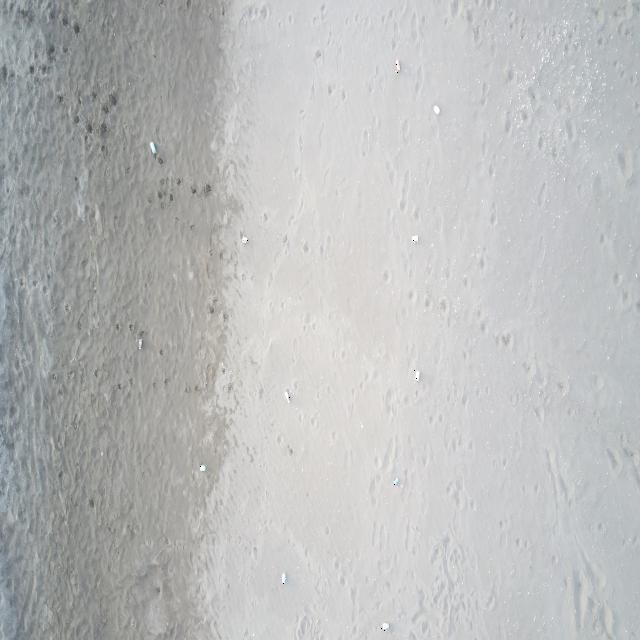tin-and-aluminum-cans: (284, 388, 291, 405), (394, 58, 401, 73), (432, 104, 441, 115), (414, 368, 420, 384), (410, 234, 419, 244), (150, 140, 156, 155), (138, 337, 144, 351), (381, 623, 391, 631), (392, 477, 400, 487), (281, 570, 286, 585), (199, 463, 207, 472), (242, 234, 248, 245)
